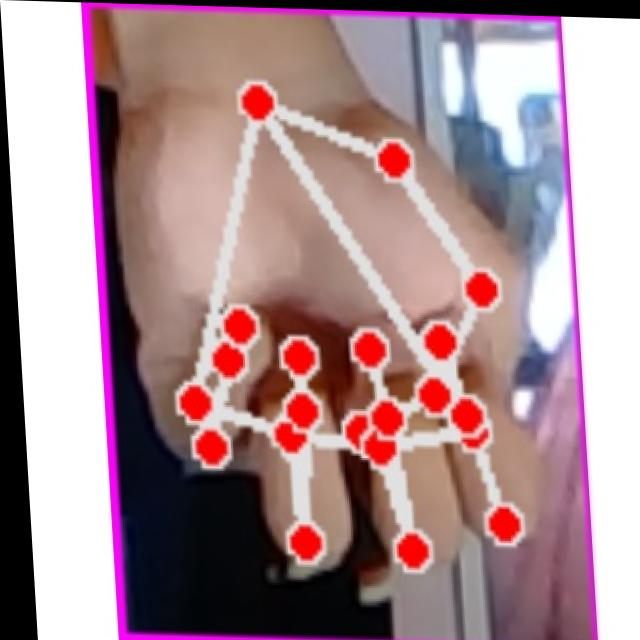M: (100, 35, 561, 592)
